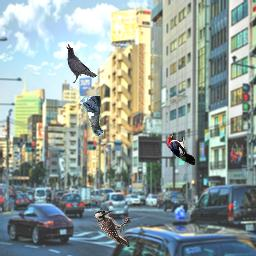Crow: (66, 43, 97, 83), (80, 96, 104, 136)
Woodpecker: (94, 210, 132, 247), (167, 132, 195, 166)
